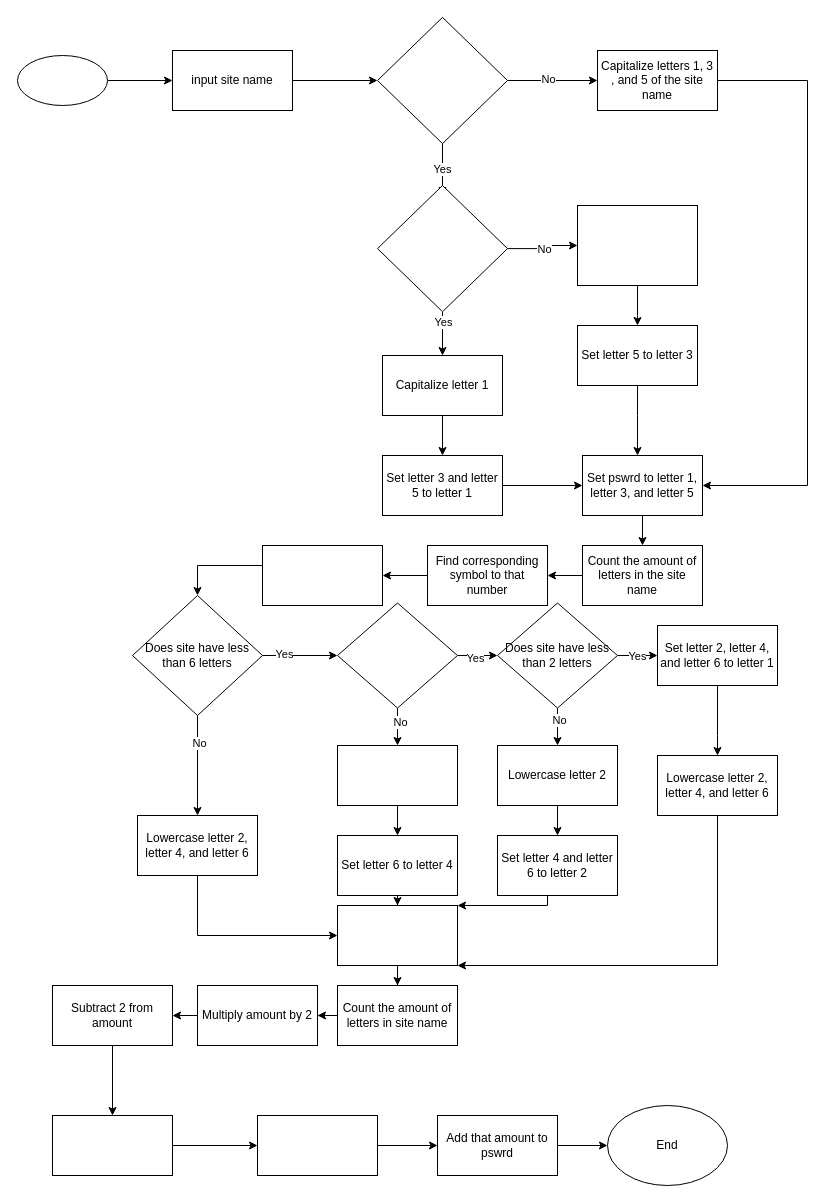
The diagram is 833 pixels wide and 1204 high, and some of its shapes have lost their labels. Here are the shapes that lost their labels. From the top down, the centre of each, then its label:
At point 62,80: "Start".
At point 442,80: "Does site have less than 5 letters".
At point 442,248: "Does site have less than 3 letters".
At point 637,245: "Capitalize letters 1,3 of the site name".
At point 322,575: "Add symbol to pswrd".
At point 397,655: "Does site have less than 4 letters".
At point 397,775: "Lowercase letter 2 and letter 4".
At point 397,935: "Add letter 2, letter 4, and letter 6 to pswrd".
At point 112,1145: "Add final amount to pswrd".
At point 317,1145: "Count amount of characters in pswrd".
